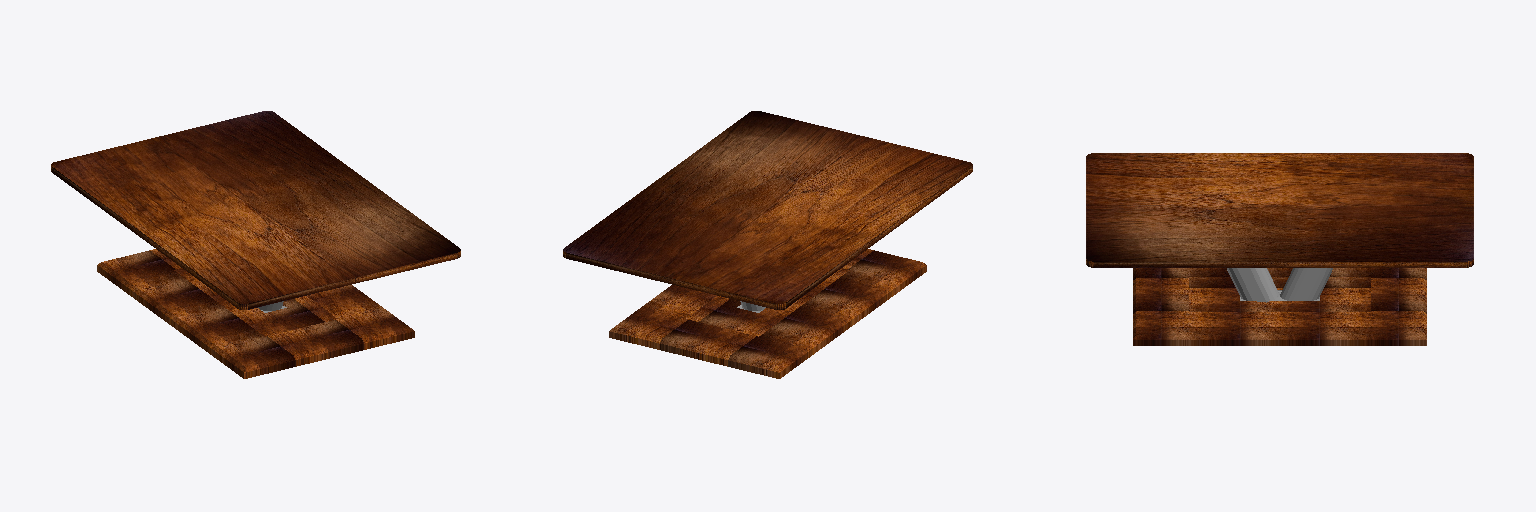
The picture shows the model from 3 angles: view 1: azimuth 30°, elevation 25°; view 2: azimuth 150°, elevation 25°; view 3: azimuth 270°, elevation 25°; orthographic projection.
Visible parts, largest first — view 1: Cube.001, Cube; view 2: Cube.001, Cube; view 3: Cube.001, Cube, Cube.002.
Boxes of the visible parts, <box> form: Cube.001: <box>51,111,460,309</box>; Cube: <box>97,249,414,378</box>; Cube.001: <box>563,111,972,309</box>; Cube: <box>609,249,926,378</box>; Cube.001: <box>1086,153,1473,267</box>; Cube: <box>1133,268,1426,345</box>; Cube.002: <box>1227,268,1332,302</box>.
Size of the model in its own units: 3.34 by 1.4 by 5.04.
Materials: 3 (1 with a texture image).